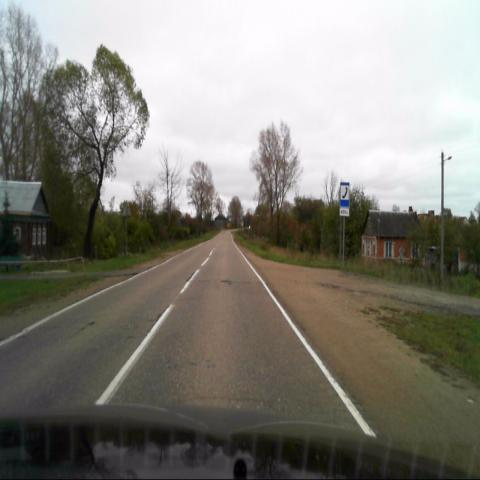7_6: (339, 181, 350, 207)
